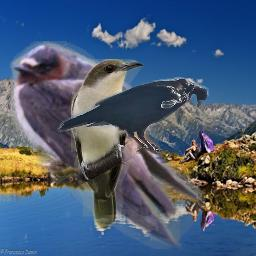Crow: (56, 77, 209, 156)
Cuckoo: (71, 59, 144, 232)
Swallow: (8, 41, 206, 249)
